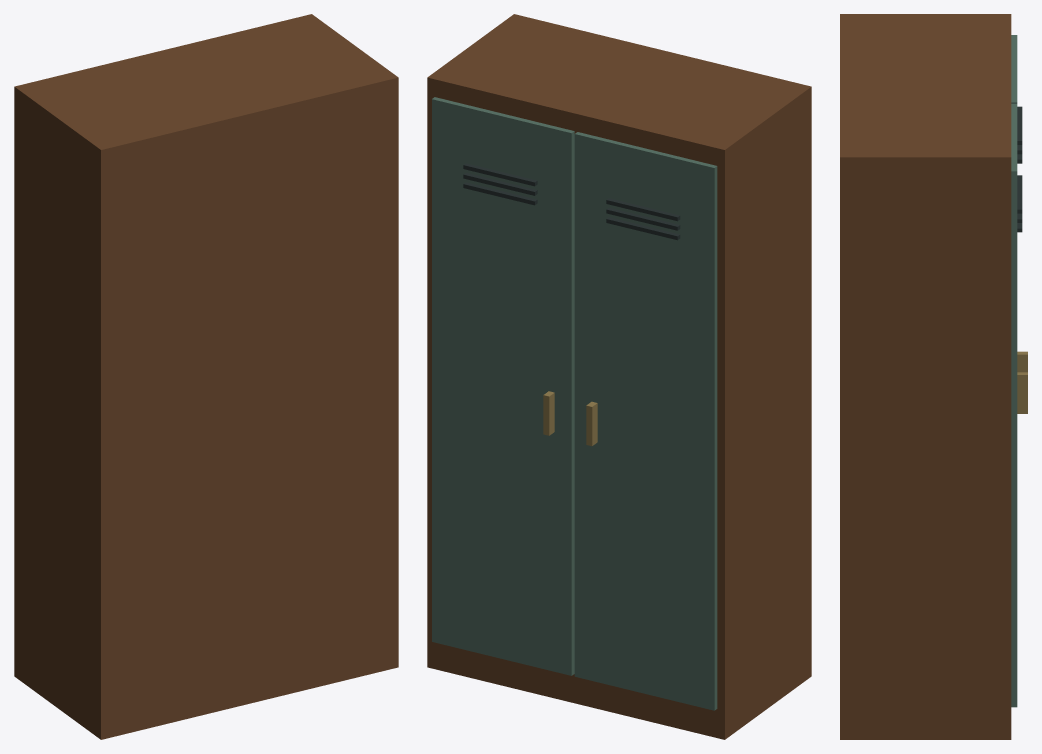
File: wooden_cupboard.glb
3 renders of one model, left to right at view 1: azimuth 30°, elevation 25°; view 2: azimuth 150°, elevation 25°; view 3: azimuth 270°, elevation 25°, orthographic.
Visible parts, largest first — view 1: wooden_cupboard; view 2: wooden_cupboard; view 3: wooden_cupboard.
Part boxes in pixels (left/top/right/bottom): wooden_cupboard: left=14, top=14, right=398, bottom=739; wooden_cupboard: left=427, top=14, right=811, bottom=739; wooden_cupboard: left=840, top=14, right=1027, bottom=739.
Size of the model in its own units: 0.95 by 1.8 by 0.526.
